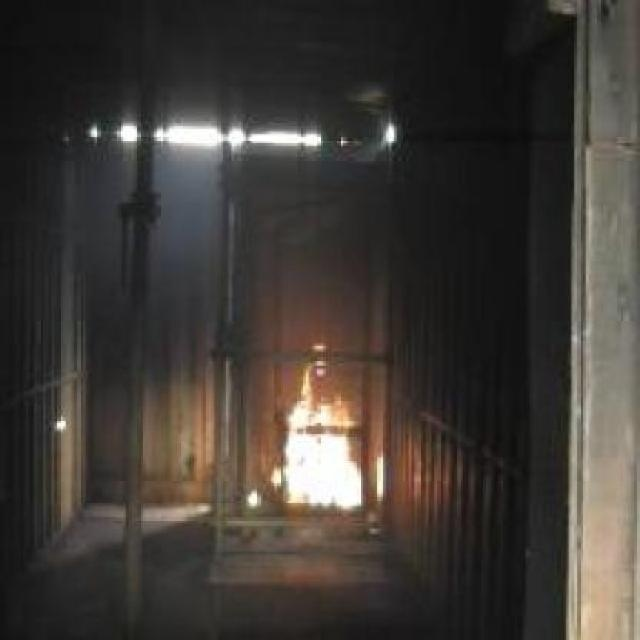fire: (273, 327, 367, 521)
